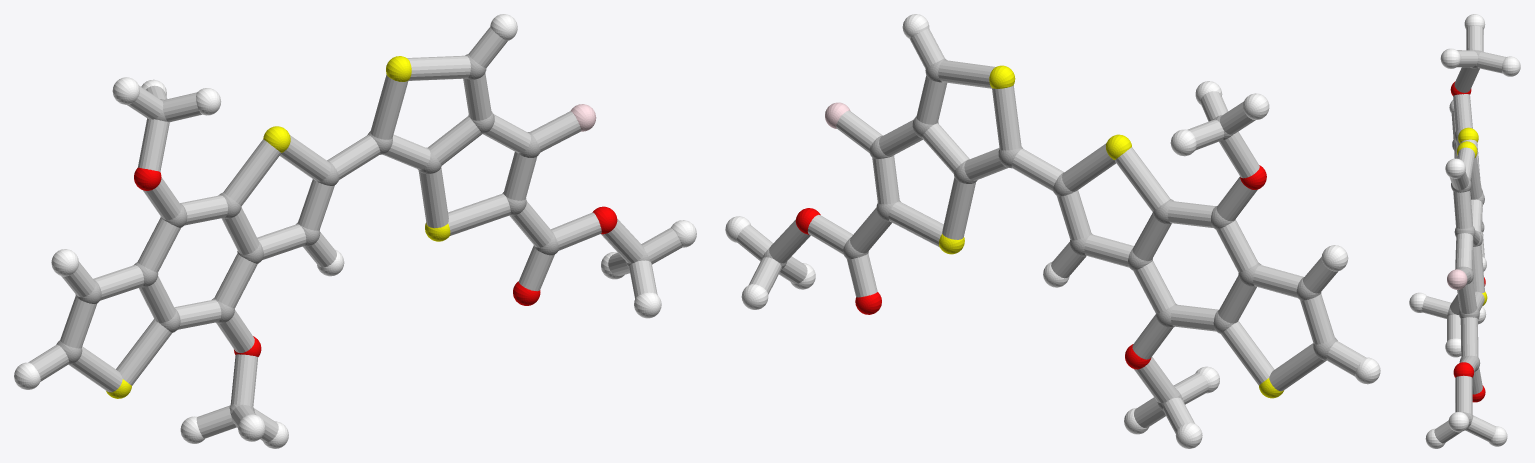
File: Dimethoxy_Benzodithiophene_Phi_10_Theta_180_Methylcarbonyl_3_Fluoro_Thienothiophene.glb
The picture shows the model from 3 angles, left to right: view 1: azimuth 30°, elevation 25°; view 2: azimuth 150°, elevation 25°; view 3: azimuth 270°, elevation 25°; orthographic projection. The views are drawn at different scales.
Parts seen in each view (by area): view 1: grp15205, grp8689, grp1, grp7241, grp13395; view 2: grp15205, grp8689, grp1, grp7241, grp13395; view 3: grp15205, grp8689, grp1, grp13395, grp7241, grp14843.
Boxes of the visible parts, x1,y1,x2,y2 form: grp15205: (28, 27, 682, 442); grp8689: (14, 14, 696, 448); grp1: (56, 54, 650, 415); grp7241: (106, 56, 450, 398); grp13395: (134, 167, 617, 356); grp15205: (736, 28, 1365, 433); grp8689: (725, 14, 1380, 448); grp1: (762, 58, 1337, 411); grp7241: (939, 65, 1283, 398); grp13395: (795, 165, 1266, 369); grp15205: (1422, 25, 1505, 443); grp8689: (1409, 14, 1520, 448); grp1: (1447, 50, 1484, 430); grp13395: (1450, 81, 1485, 402); grp7241: (1457, 127, 1487, 305); grp14843: (1447, 269, 1467, 289).
Bounding box in the file's own units: 16.92 × 9.38 × 3.24.
